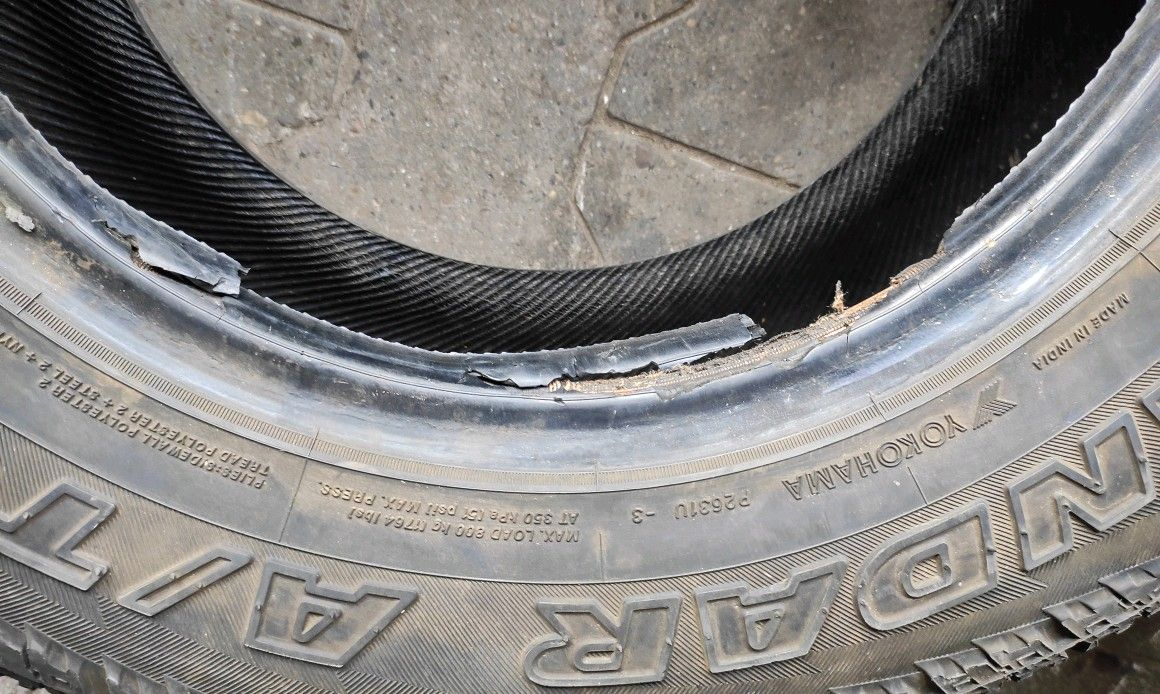bead_damage: (0, 94, 1027, 411)
